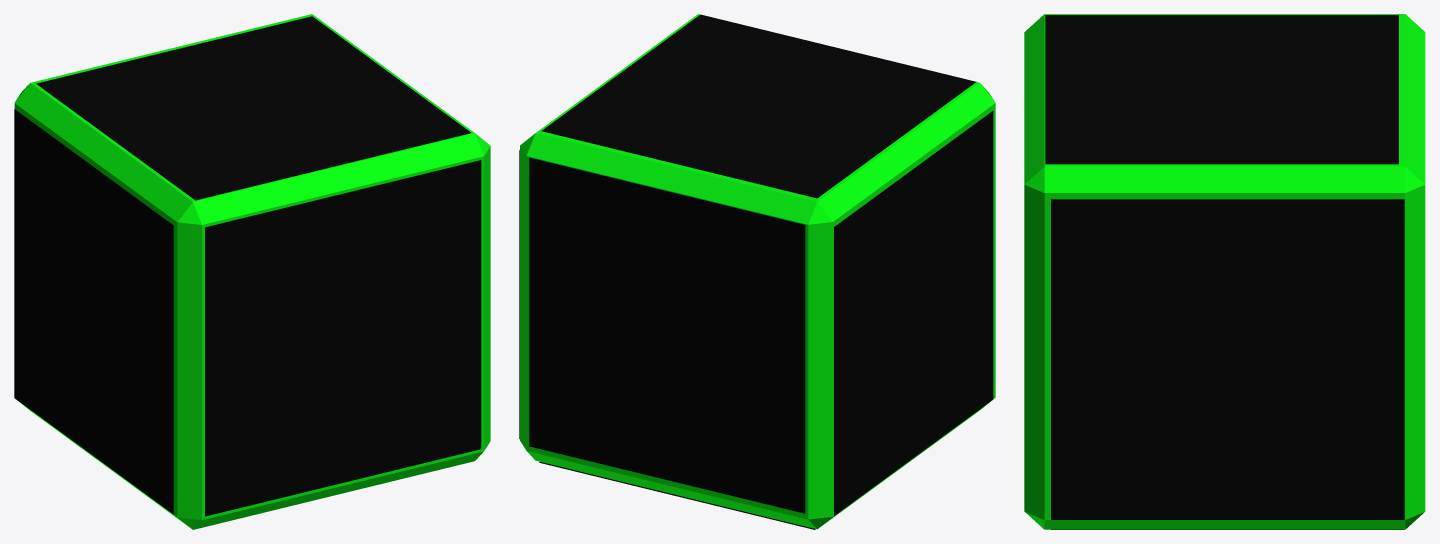
The model's file is hallowCube-transformed.glb.
3 renders of one model, left to right at view 1: azimuth 30°, elevation 25°; view 2: azimuth 150°, elevation 25°; view 3: azimuth 270°, elevation 25°, orthographic. The views are drawn at different scales.
Parts seen in each view (by area): view 1: Plane, Plane.005, Plane.001, Cube; view 2: Plane.002, Plane.005, Plane.001, Cube; view 3: Plane.004, Plane.001, Cube.
Part boxes in pixels (bbox=[...]): Plane: bbox=[205, 160, 481, 516]; Plane.005: bbox=[14, 109, 173, 514]; Plane.001: bbox=[36, 16, 470, 200]; Cube: bbox=[14, 14, 490, 529]; Plane.002: bbox=[529, 157, 805, 513]; Plane.005: bbox=[834, 111, 993, 515]; Plane.001: bbox=[541, 14, 976, 198]; Cube: bbox=[520, 14, 995, 529]; Plane.004: bbox=[1051, 199, 1404, 519]; Plane.001: bbox=[1045, 15, 1398, 164]; Cube: bbox=[1024, 14, 1425, 529].
Bounding box in the file's own units: 2.01 × 2.01 × 2.
